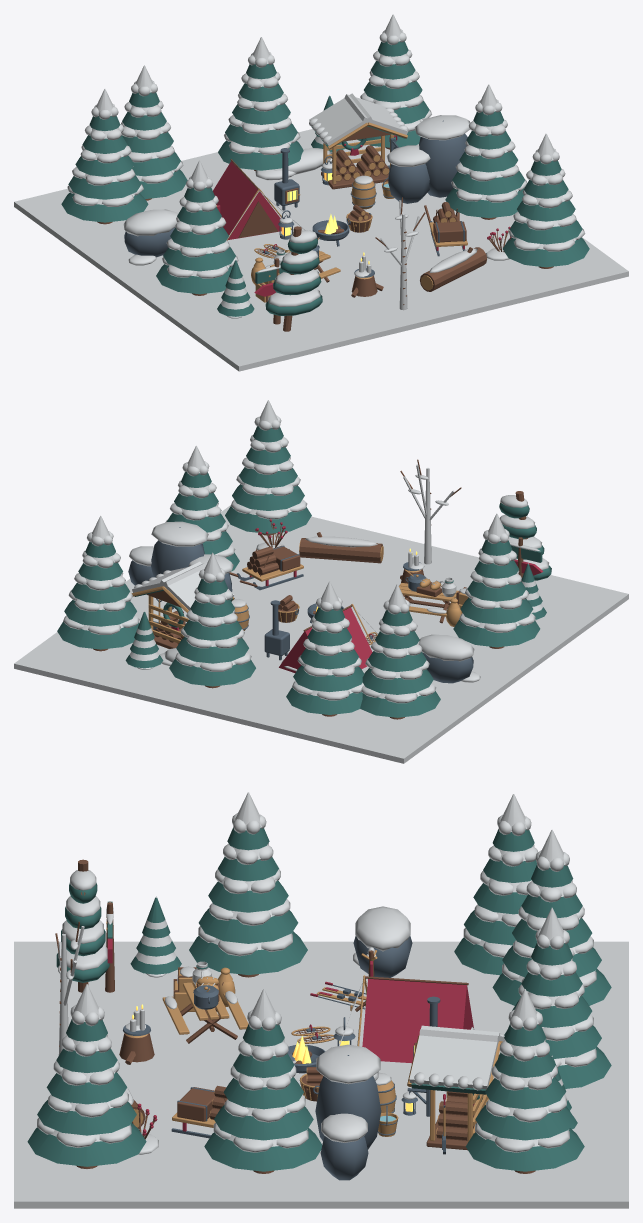
File: snowbound_forest_camp.glb
3 renders of one model, top to bottom at view 1: azimuth 30°, elevation 25°; view 2: azimuth 150°, elevation 25°; view 3: azimuth 270°, elevation 25°, orthographic. The views are drawn at different scales.
Visible parts, largest first — view 1: 003-packed-snow-tile/packed-snow-tile-snow, 007-packed-snow-tile/packed-snow-tile-snow, 011-packed-snow-tile/packed-snow-tile-snow, 048-grand-alpine-fir/grand-alpine-fir-pine, 042-grand-alpine-fir/grand-alpine-fir-pine, 044-grand-alpine-fir/grand-alpine-fir-pine, 046-grand-alpine-fir/grand-alpine-fir-pine, 047-grand-alpine-fir/grand-alpine-fir-pine, 010-packed-snow-tile/packed-snow-tile-snow, 015-packed-snow-tile/packed-snow-tile-snow, 051-snowy-rock-outcrop/snowy-rock-outcrop-iron, 043-grand-alpine-fir/grand-alpine-fir-pine (+34 smaller); view 2: 000-packed-snow-tile/packed-snow-tile-snow, 047-grand-alpine-fir/grand-alpine-fir-pine, 044-grand-alpine-fir/grand-alpine-fir-pine, 048-grand-alpine-fir/grand-alpine-fir-pine, 042-grand-alpine-fir/grand-alpine-fir-pine, 004-packed-snow-tile/packed-snow-tile-snow, 045-grand-alpine-fir/grand-alpine-fir-pine, 043-grand-alpine-fir/grand-alpine-fir-pine, 012-packed-snow-tile/packed-snow-tile-snow, 003-packed-snow-tile/packed-snow-tile-snow, 008-packed-snow-tile/packed-snow-tile-snow, 011-packed-snow-tile/packed-snow-tile-snow (+34 smaller); view 3: 013-packed-snow-tile/packed-snow-tile-snow, 015-packed-snow-tile/packed-snow-tile-snow, 048-grand-alpine-fir/grand-alpine-fir-pine, 045-grand-alpine-fir/grand-alpine-fir-pine, 046-grand-alpine-fir/grand-alpine-fir-pine, 012-packed-snow-tile/packed-snow-tile-snow, 047-grand-alpine-fir/grand-alpine-fir-pine, 014-packed-snow-tile/packed-snow-tile-snow, 016-winter-canvas-tent/winter-canvas-tent-berry, 003-packed-snow-tile/packed-snow-tile-snow, 007-packed-snow-tile/packed-snow-tile-snow, 044-grand-alpine-fir/grand-alpine-fir-pine (+34 smaller).
Part boxes in pixels (x1,y1,x2,y2): 003-packed-snow-tile/packed-snow-tile-snow: (182,305,336,371); 007-packed-snow-tile/packed-snow-tile-snow: (298,278,433,347); 011-packed-snow-tile/packed-snow-tile-snow: (378,262,531,323); 048-grand-alpine-fir/grand-alpine-fir-pine: (503,160,589,267); 042-grand-alpine-fir/grand-alpine-fir-pine: (61,116,148,222); 044-grand-alpine-fir/grand-alpine-fir-pine: (218,64,303,170); 046-grand-alpine-fir/grand-alpine-fir-pine: (445,111,524,218); 047-grand-alpine-fir/grand-alpine-fir-pine: (156,187,242,294); 010-packed-snow-tile/packed-snow-tile-snow: (328,213,468,277); 015-packed-snow-tile/packed-snow-tile-snow: (485,237,628,299); 051-snowy-rock-outcrop/snowy-rock-outcrop-iron: (388,120,467,203); 043-grand-alpine-fir/grand-alpine-fir-pine: (122,92,187,198); 000-packed-snow-tile/packed-snow-tile-snow: (306,709,460,763); 047-grand-alpine-fir/grand-alpine-fir-pine: (453,539,540,647); 044-grand-alpine-fir/grand-alpine-fir-pine: (169,579,255,686); 048-grand-alpine-fir/grand-alpine-fir-pine: (225,426,311,533); 042-grand-alpine-fir/grand-alpine-fir-pine: (360,610,440,717); 004-packed-snow-tile/packed-snow-tile-snow: (209,670,330,739); 045-grand-alpine-fir/grand-alpine-fir-pine: (57,542,139,649); 043-grand-alpine-fir/grand-alpine-fir-pine: (286,607,364,714); 012-packed-snow-tile/packed-snow-tile-snow: (14,632,165,692); 003-packed-snow-tile/packed-snow-tile-snow: (535,575,628,639); 008-packed-snow-tile/packed-snow-tile-snow: (111,648,264,716); 011-packed-snow-tile/packed-snow-tile-snow: (295,522,433,587); 013-packed-snow-tile/packed-snow-tile-snow: (321,1136,475,1208); 015-packed-snow-tile/packed-snow-tile-snow: (14,1136,167,1208); 048-grand-alpine-fir/grand-alpine-fir-pine: (27,1019,146,1166); 045-grand-alpine-fir/grand-alpine-fir-pine: (465,1024,584,1171); 046-grand-alpine-fir/grand-alpine-fir-pine: (204,1024,322,1171); 012-packed-snow-tile/packed-snow-tile-snow: (475,1136,628,1208); 047-grand-alpine-fir/grand-alpine-fir-pine: (189,827,307,975); 014-packed-snow-tile/packed-snow-tile-snow: (167,1136,321,1208); 016-winter-canvas-tent/winter-canvas-tent-berry: (362,979,473,1063); 003-packed-snow-tile/packed-snow-tile-snow: (14,941,167,1006); 007-packed-snow-tile/packed-snow-tile-snow: (14,1006,167,1071); 044-grand-alpine-fir/grand-alpine-fir-pine: (498,943,611,1088).
Size of the model in its own units: 16 by 5.37 by 16.
